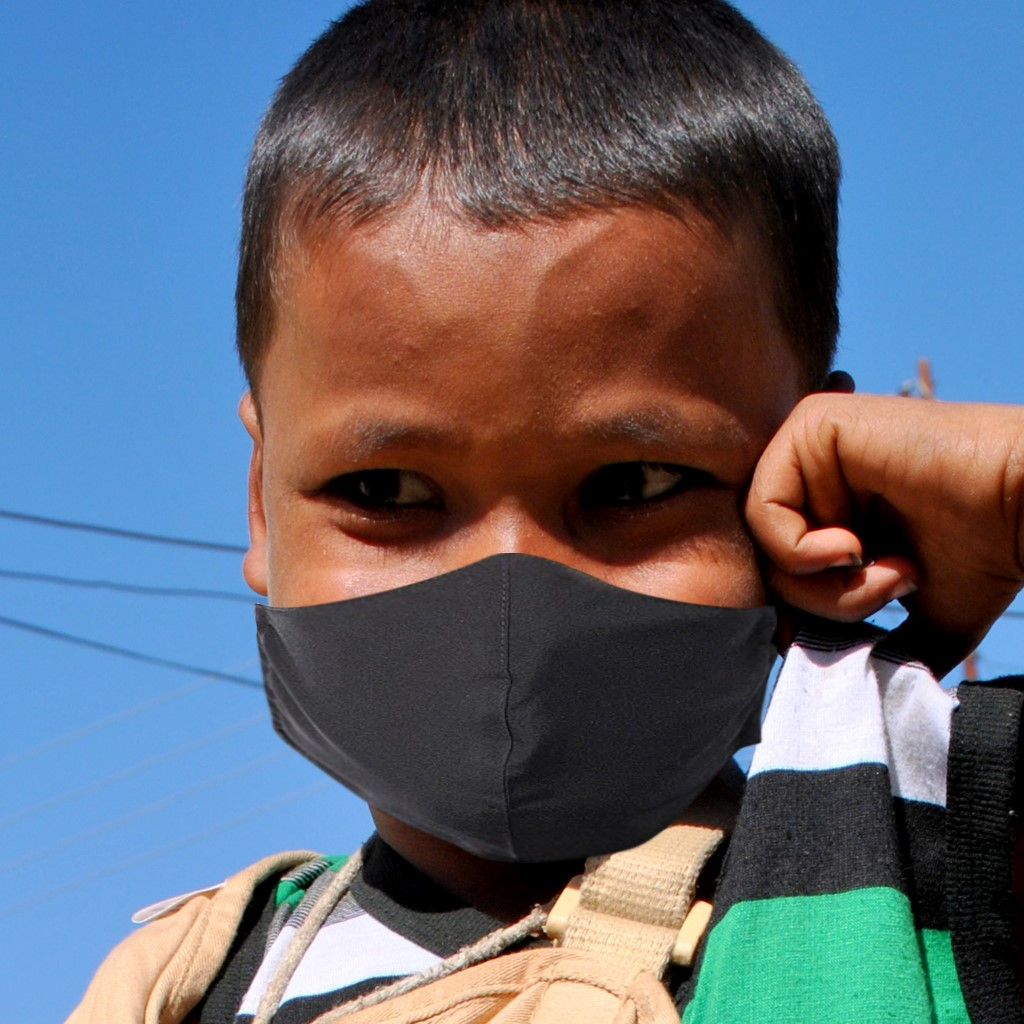con_mascara: (237, 115, 851, 870)
